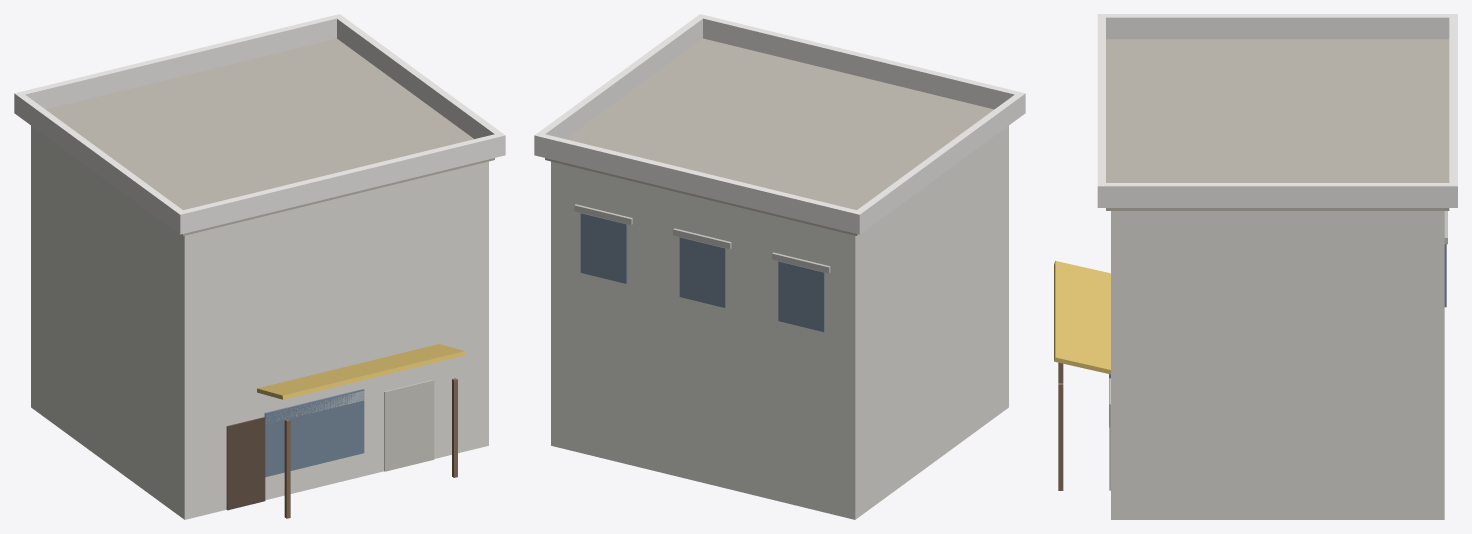
The model's file is etage_blanc.glb.
The picture shows the model from 3 angles, left to right: view 1: azimuth 30°, elevation 25°; view 2: azimuth 150°, elevation 25°; view 3: azimuth 270°, elevation 25°; orthographic projection. The views are drawn at different scales.
Parts seen in each view (by area): view 1: etageB_mur, etageB_dalle, etageB_p1, etageB_p2, etageB_vitrine, etageB_p4, etageB_volet, etageB_p3, etageB_store, etageB_porte, etageB_pot1, etageB_reflet (+1 smaller); view 2: etageB_mur, etageB_dalle, etageB_p2, etageB_p1, etageB_p4, etageB_p3, etageB_fen2, etageB_fen0, etageB_fen1; view 3: etageB_mur, etageB_dalle, etageB_p4, etageB_p3, etageB_store, etageB_p1, etageB_p2, etageB_pot2.
Part boxes in pixels (box(x1,y1,x2,y2)): etageB_mur: box(31, 125, 488, 519); etageB_dalle: box(46, 38, 494, 235); etageB_p1: box(176, 132, 505, 234); etageB_p2: box(14, 14, 343, 115); etageB_vitrine: box(264, 389, 364, 477); etageB_p4: box(18, 94, 182, 231); etageB_volet: box(384, 379, 434, 471); etageB_p3: box(337, 17, 501, 138); etageB_store: box(257, 344, 465, 399); etageB_porte: box(226, 417, 265, 510); etageB_pot1: box(284, 419, 290, 518); etageB_reflet: box(265, 390, 364, 423); etageB_mur: box(551, 125, 1008, 519); etageB_dalle: box(545, 38, 993, 235); etageB_p2: box(534, 132, 863, 234); etageB_p1: box(696, 14, 1025, 115); etageB_p4: box(857, 94, 1021, 231); etageB_p3: box(538, 17, 702, 138); etageB_fen2: box(580, 213, 627, 283); etageB_fen0: box(778, 261, 824, 331); etageB_fen1: box(679, 237, 725, 307); etageB_mur: box(1111, 211, 1444, 519); etageB_dalle: box(1106, 39, 1449, 210); etageB_p4: box(1106, 14, 1449, 39); etageB_p3: box(1106, 183, 1449, 207); etageB_store: box(1054, 260, 1110, 374); etageB_p1: box(1097, 14, 1105, 207); etageB_p2: box(1449, 14, 1457, 207); etageB_pot2: box(1058, 383, 1063, 490).
Size of the model in its own units: 8.56 by 7.85 by 8.47.
